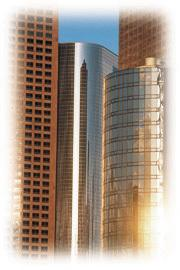building: (102, 57, 180, 253), (60, 43, 118, 256), (16, 9, 59, 257), (118, 17, 168, 58)
